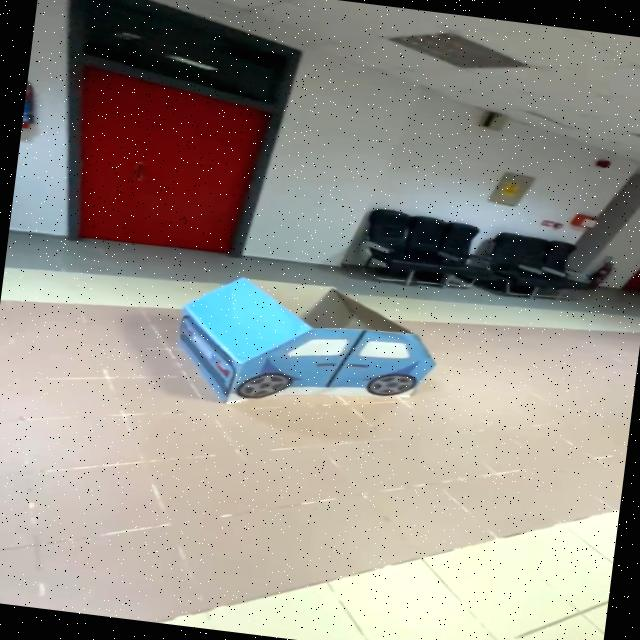blue_car: (133, 254, 473, 444)
